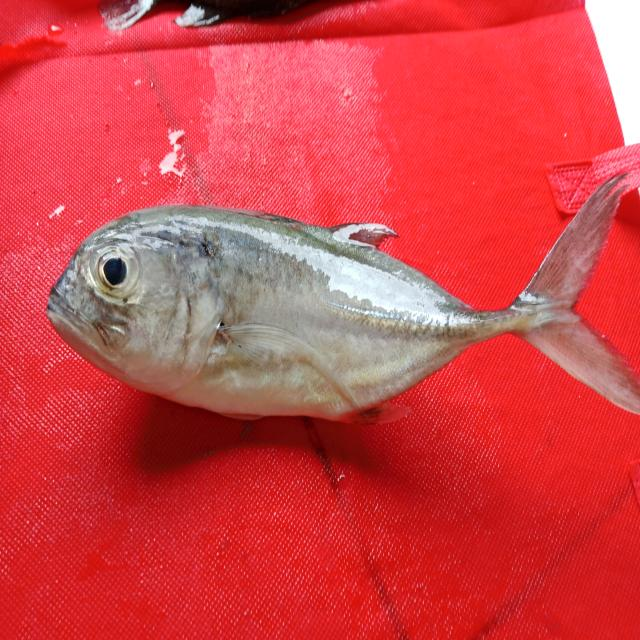ikan: (36, 159, 629, 434)
